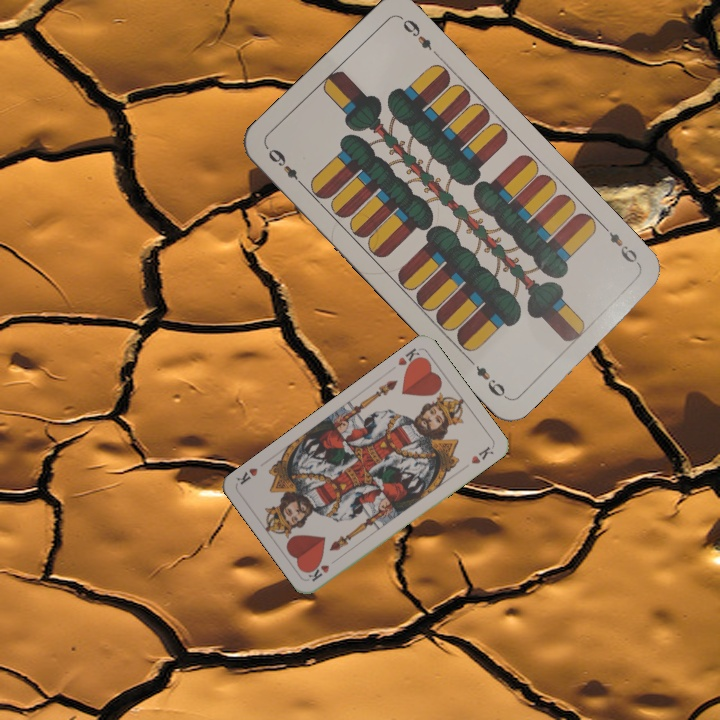E9: (599, 222, 644, 271), (264, 144, 308, 190)
HK: (394, 344, 425, 373), (304, 561, 332, 584)
